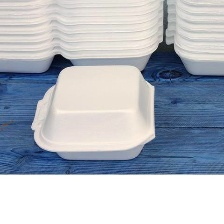foam_box: (25, 59, 160, 167), (0, 0, 168, 78), (161, 0, 224, 80)
